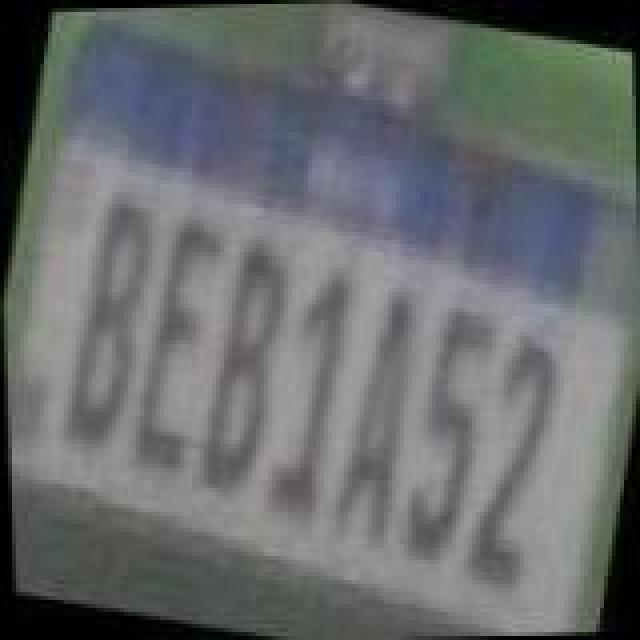1: (248, 254, 368, 522)
2: (450, 320, 570, 588)
5: (382, 290, 502, 566)
A: (314, 278, 434, 550)
B: (186, 234, 302, 498), (52, 192, 168, 448)
E: (120, 214, 236, 478)
